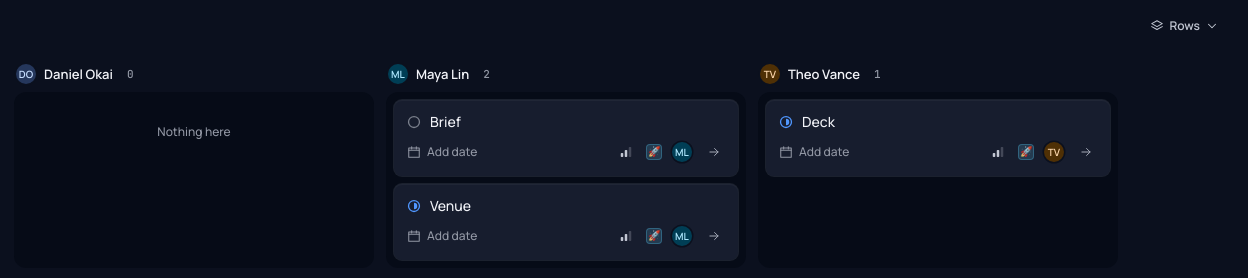
Test: rows (swimlanes) › never offers rows by what the columns already are
Click the button "Rows" at (1185, 26), box [1139,12,1230,40]
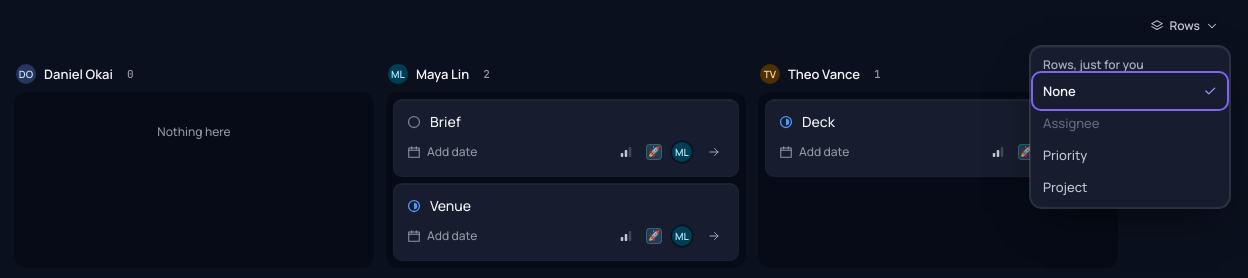
Expected: the menu item "Assignee" is disabled, [1035,107,1225,139]
